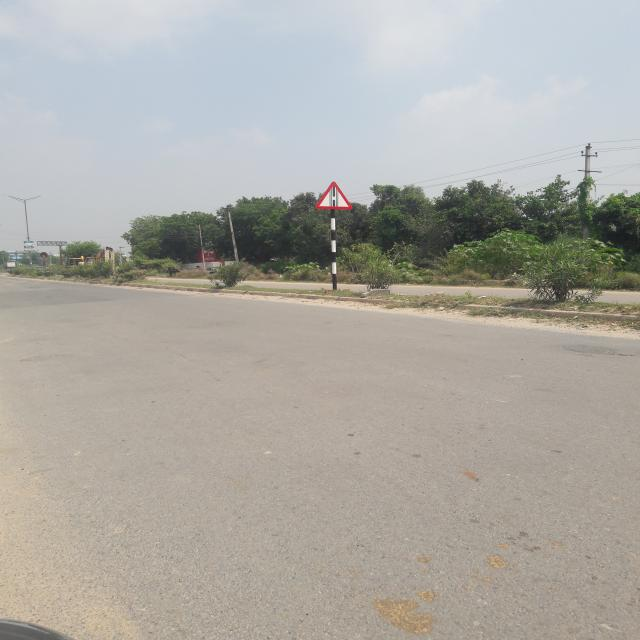GAP_IN_MEDIAN: (315, 181, 353, 210)
